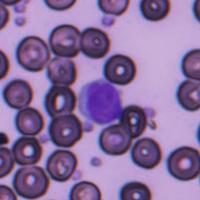L: (78, 78, 122, 125)
